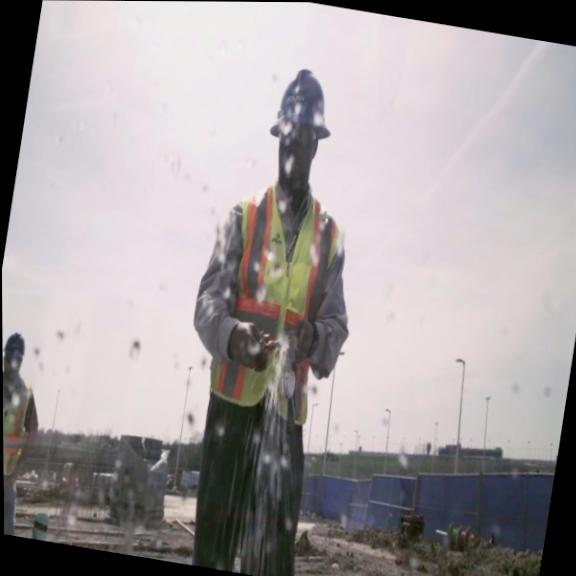safety_vest: (200, 181, 349, 427), (3, 371, 37, 478)
